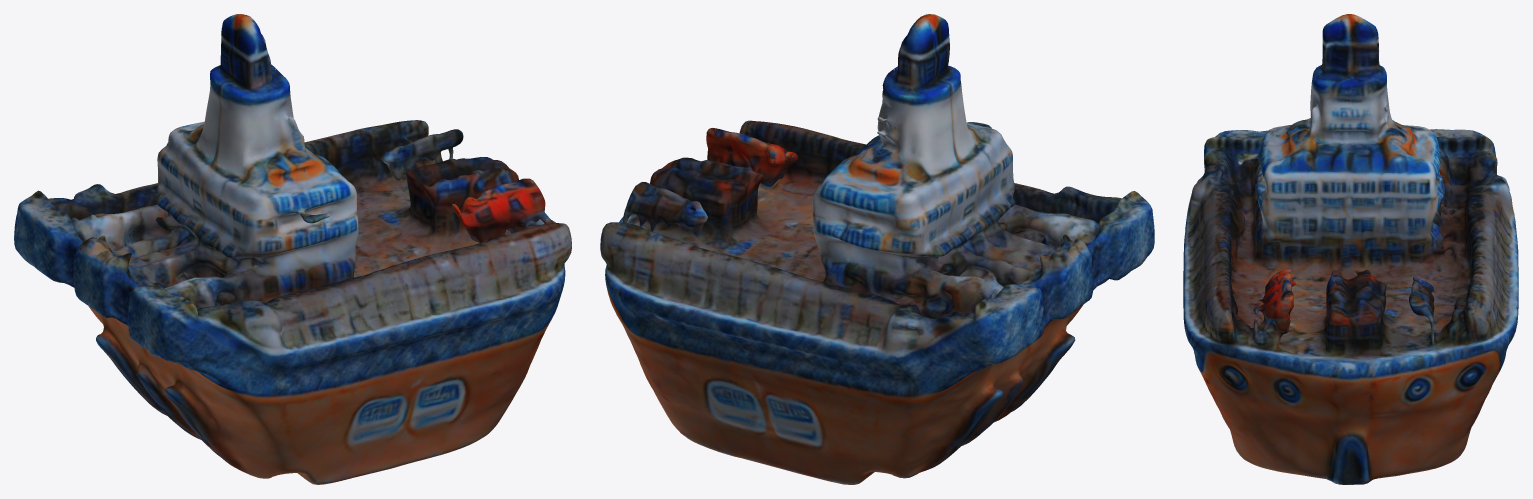
File: e88a2f0dc715_Create_a_high_quali.fbx
3 renders of one model, left to right at view 1: azimuth 30°, elevation 25°; view 2: azimuth 150°, elevation 25°; view 3: azimuth 270°, elevation 25°, orthographic. The views are drawn at different scales.
Parts seen in each view (by area): view 1: high_poly; view 2: high_poly; view 3: high_poly.
Part boxes in pixels (x1,y1,x2,y2): high_poly: [14, 14, 571, 484]; high_poly: [600, 14, 1154, 484]; high_poly: [1183, 14, 1518, 484].
Size of the model in its own units: 100 by 90.23 by 73.97.
